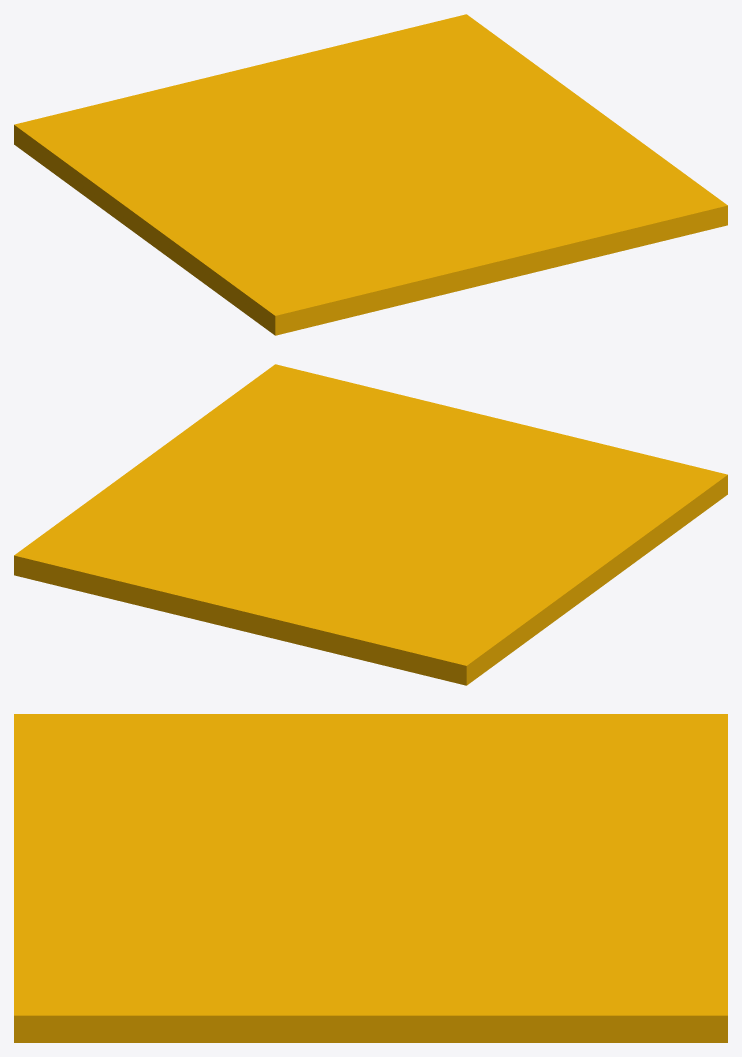
The model's file is Diamond_Ornament.glb.
The picture shows the model from 3 angles, top to bottom: view 1: azimuth 30°, elevation 25°; view 2: azimuth 150°, elevation 25°; view 3: azimuth 270°, elevation 25°; orthographic projection. The views are drawn at different scales.
Visible parts, largest first — view 1: PF_Barroque_2; view 2: PF_Barroque_2; view 3: PF_Barroque_2.
Boxes of the visible parts, bbox=[...] form: PF_Barroque_2: bbox=[14, 14, 727, 335]; PF_Barroque_2: bbox=[14, 364, 727, 685]; PF_Barroque_2: bbox=[14, 714, 727, 1042].
Size of the model in its own units: 1.27 by 0.0561 by 1.27.
Materials: 3 (1 with a texture image).
